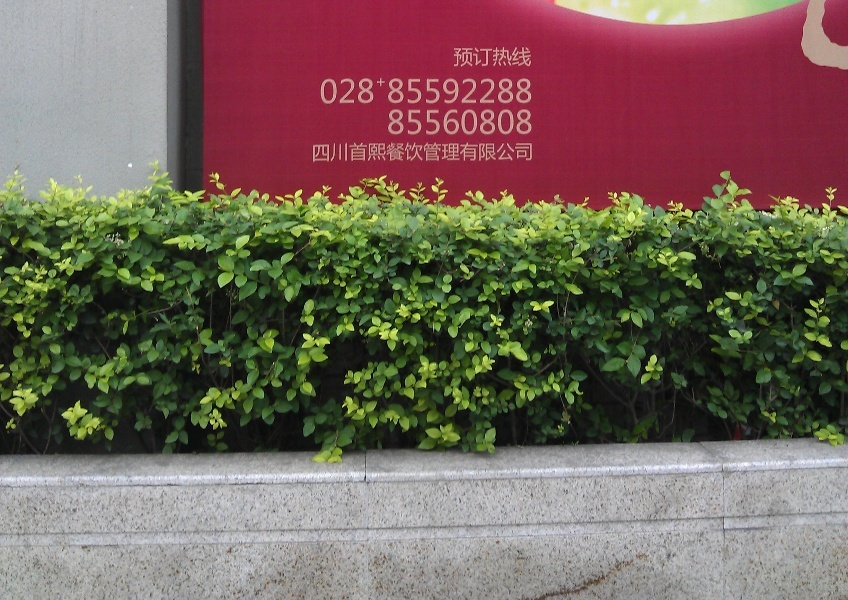text: (321, 77, 336, 106), (337, 77, 352, 106), (353, 77, 368, 106), (401, 77, 416, 105), (417, 77, 432, 105), (433, 77, 448, 105), (449, 77, 464, 105), (465, 77, 480, 105), (481, 77, 496, 105), (497, 77, 512, 105), (513, 77, 528, 105), (401, 108, 416, 136), (417, 108, 432, 136), (433, 108, 448, 136), (449, 108, 464, 136), (465, 108, 480, 136), (481, 108, 496, 136), (497, 108, 512, 136), (513, 108, 528, 136), (386, 108, 400, 136), (321, 142, 336, 164), (337, 142, 352, 164), (353, 142, 368, 164), (369, 142, 384, 164), (385, 142, 400, 164), (401, 142, 416, 164), (417, 142, 432, 164), (433, 142, 448, 164), (449, 142, 464, 164), (465, 142, 480, 164), (481, 142, 496, 164), (497, 142, 512, 164), (513, 142, 528, 164), (465, 47, 480, 68), (481, 47, 496, 68), (497, 47, 512, 68), (513, 47, 528, 68), (389, 77, 400, 105), (452, 47, 464, 68), (311, 142, 320, 164), (369, 77, 374, 106), (529, 77, 533, 105), (529, 142, 534, 164), (529, 108, 532, 136), (377, 78, 384, 86), (529, 47, 531, 68)
